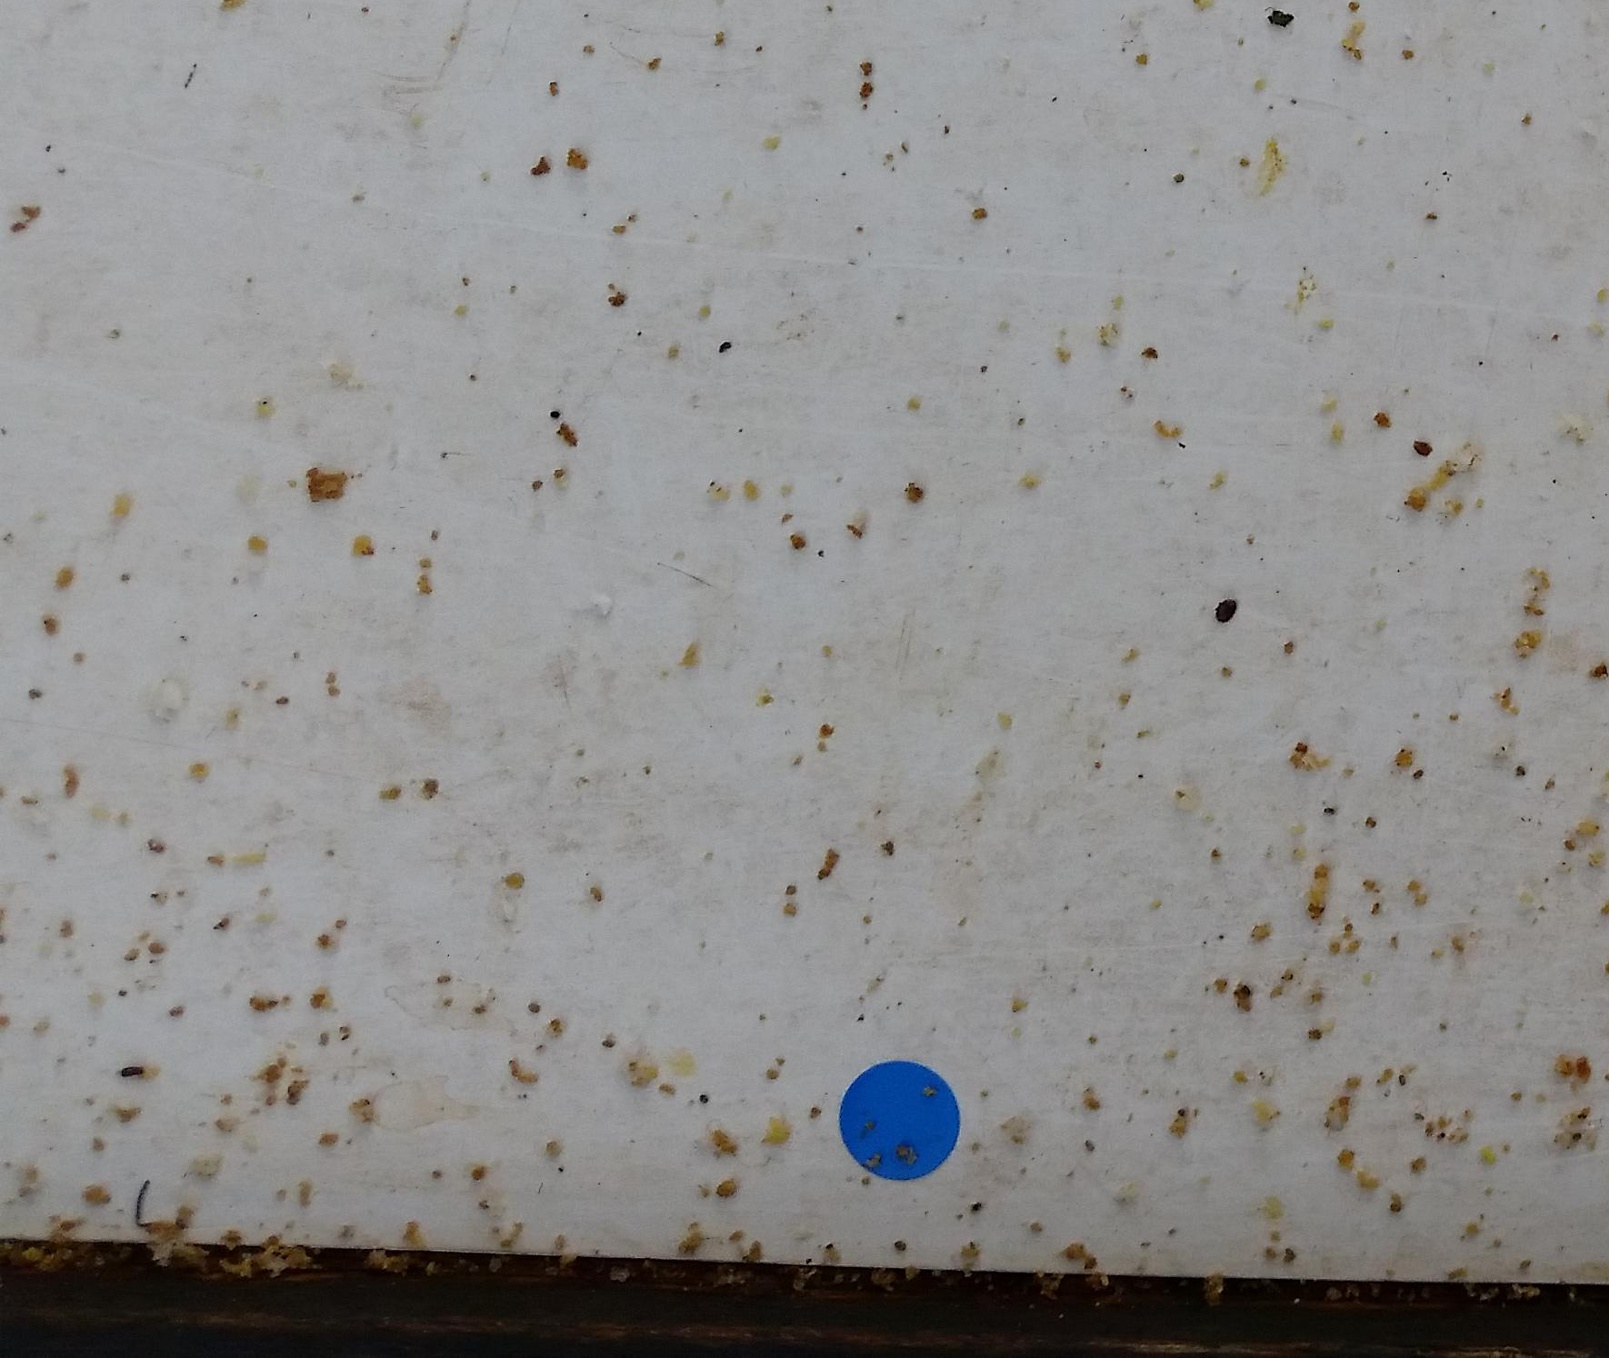Varroa: (1210, 593, 1242, 626)
